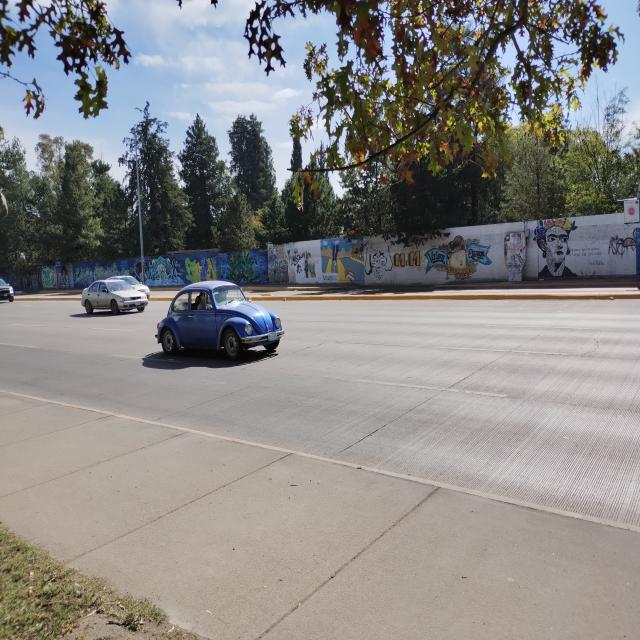Auto: (153, 278, 284, 361), (80, 284, 146, 312)
